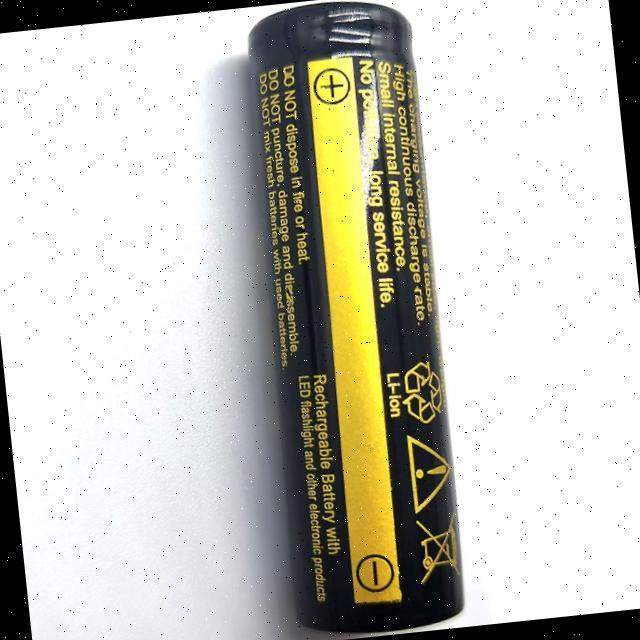AA: (246, 1, 464, 633)
